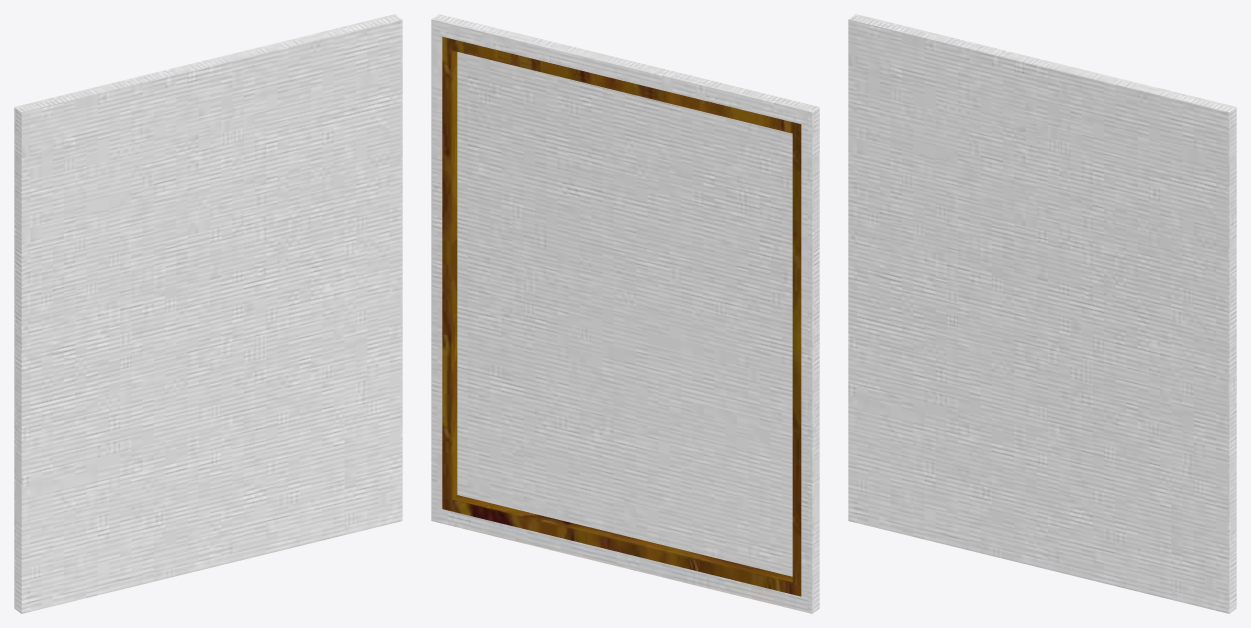
The model's file is painting-canadian-indians.glb.
The picture shows the model from 3 angles, left to right: view 1: azimuth 30°, elevation 25°; view 2: azimuth 150°, elevation 25°; view 3: azimuth 330°, elevation 25°; orthographic projection.
Parts seen in each view (by area): view 1: painting_canvas; view 2: painting_canvas (×2); view 3: painting_canvas.
Part boxes in pixels (bbox=[...]): painting_canvas: bbox=[14, 14, 402, 613]; painting_canvas (×2): bbox=[431, 14, 819, 613]; painting_canvas: bbox=[848, 14, 1236, 613].
Size of the model in its own units: 3.17 by 3.98 by 0.1059.
Materials: 2 (2 with a texture image).
